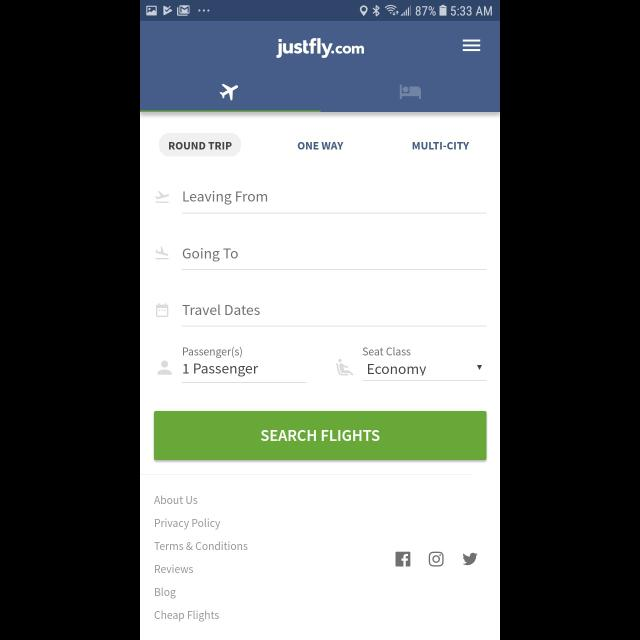icon: (462, 38, 481, 52), (428, 550, 444, 566), (394, 552, 410, 566), (156, 360, 172, 374), (462, 552, 478, 564), (156, 302, 168, 318), (477, 364, 483, 368)
image: (400, 82, 422, 100), (335, 358, 353, 377), (220, 83, 238, 101), (154, 247, 170, 260), (154, 190, 170, 203)
text: (276, 36, 364, 59), (182, 190, 268, 204), (154, 541, 248, 551), (181, 304, 259, 316), (184, 364, 258, 376), (182, 344, 242, 358), (154, 518, 220, 530), (154, 610, 220, 622), (182, 248, 238, 262), (368, 364, 427, 376), (411, 140, 469, 150), (362, 346, 410, 356), (153, 495, 197, 505), (154, 564, 194, 574), (296, 142, 344, 150), (154, 586, 176, 598)
textbutton: (154, 411, 486, 459), (160, 132, 240, 156)
uppertaskbar: (140, 1, 500, 22)
